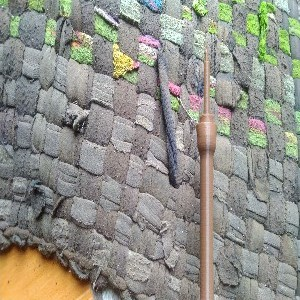solder: (196, 47, 218, 300)
